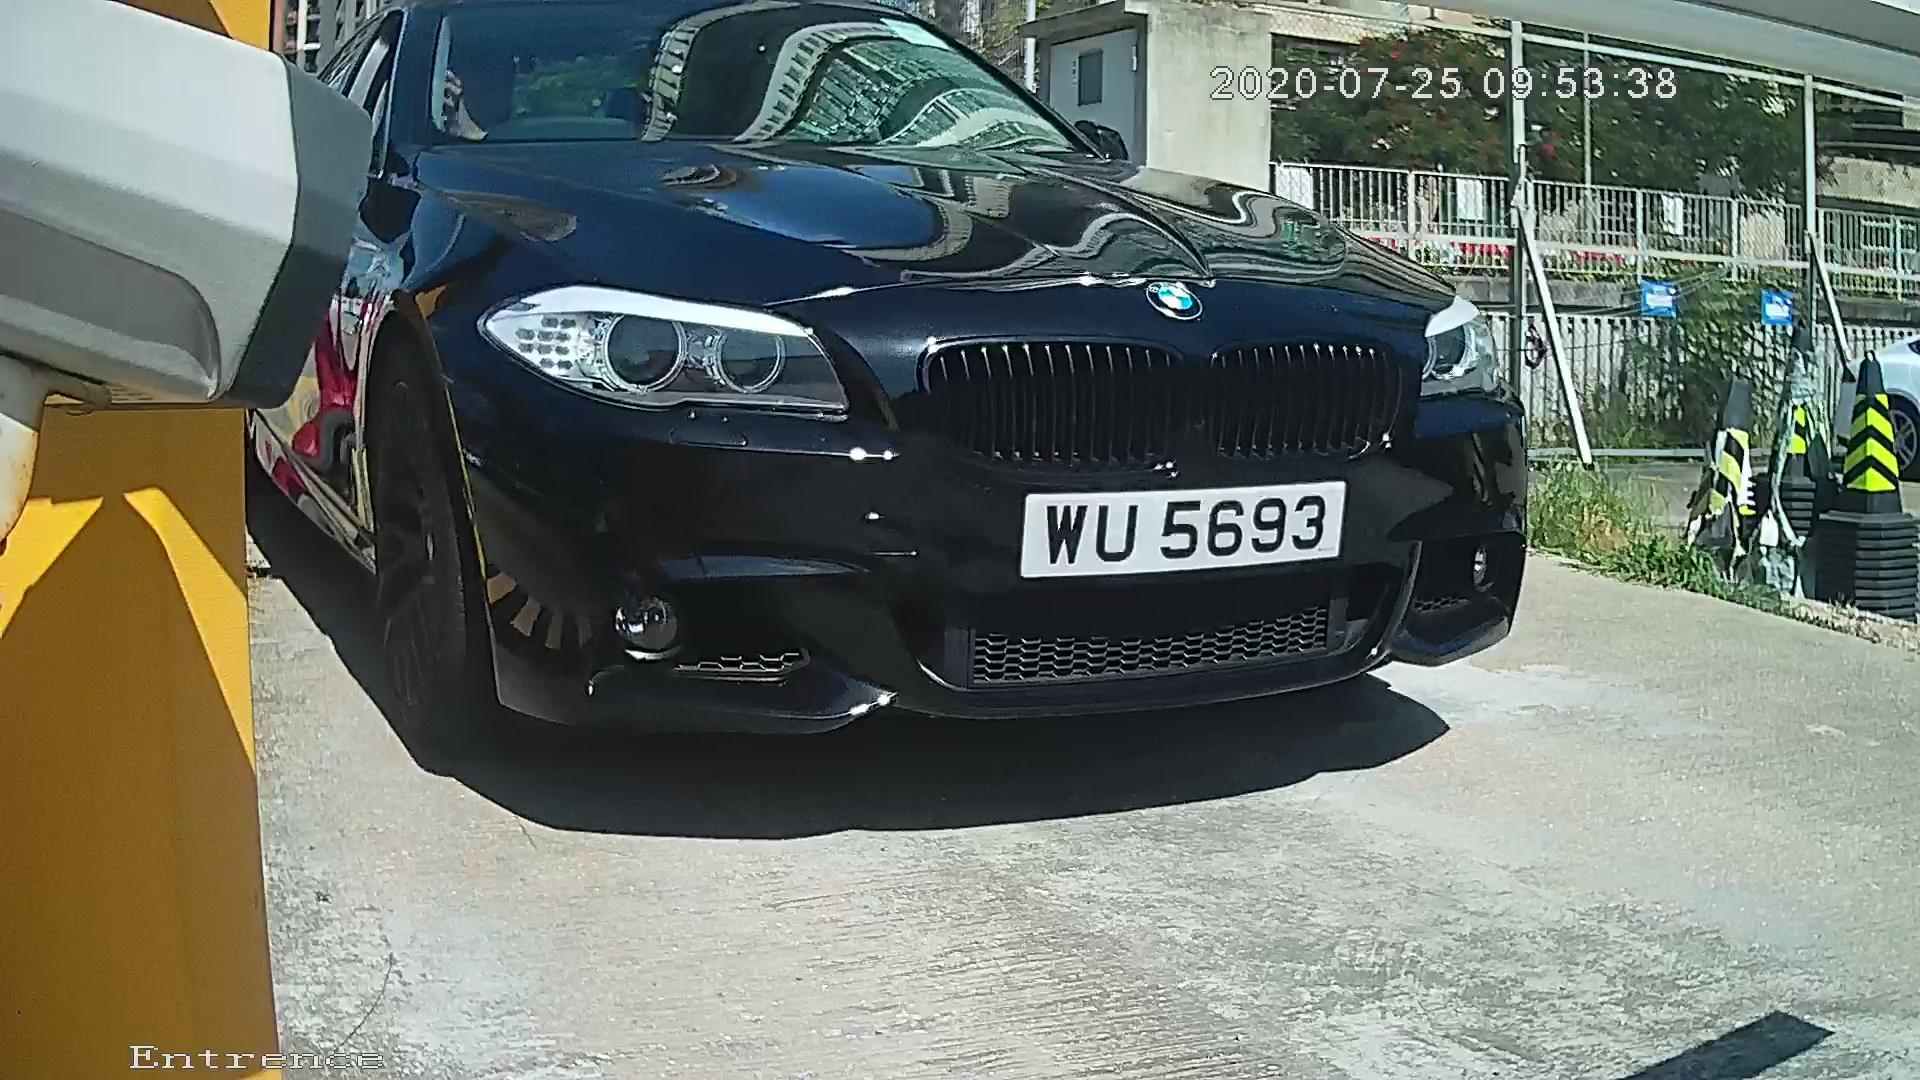License Plate: (978, 463, 1380, 598)
